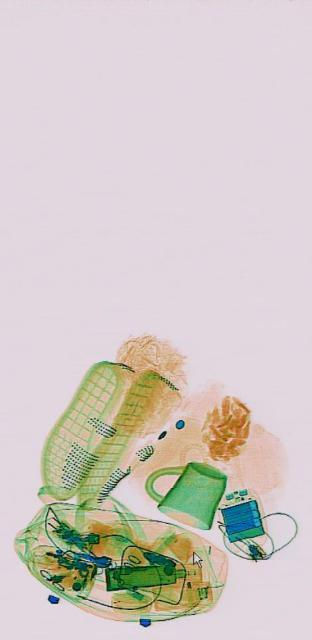Scissors: (39, 548, 67, 602)
